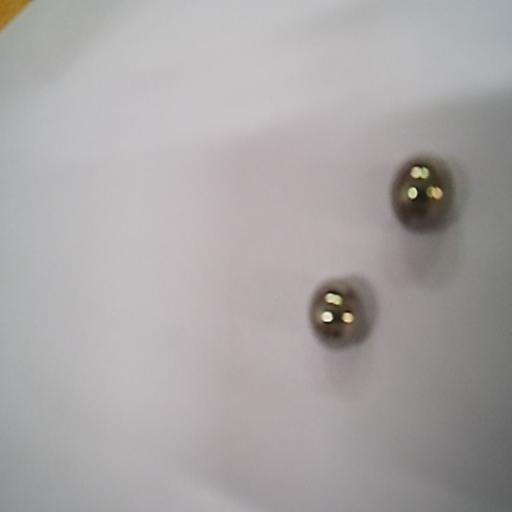steel-ball: (387, 146, 457, 236), (304, 272, 367, 355), (279, 266, 285, 266)
